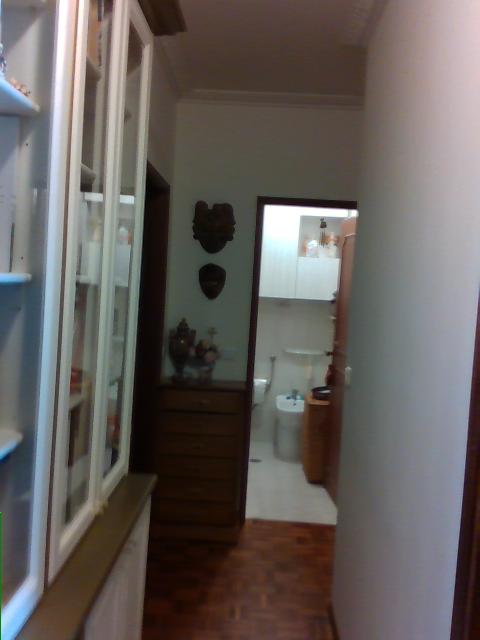open: (233, 194, 360, 531)
